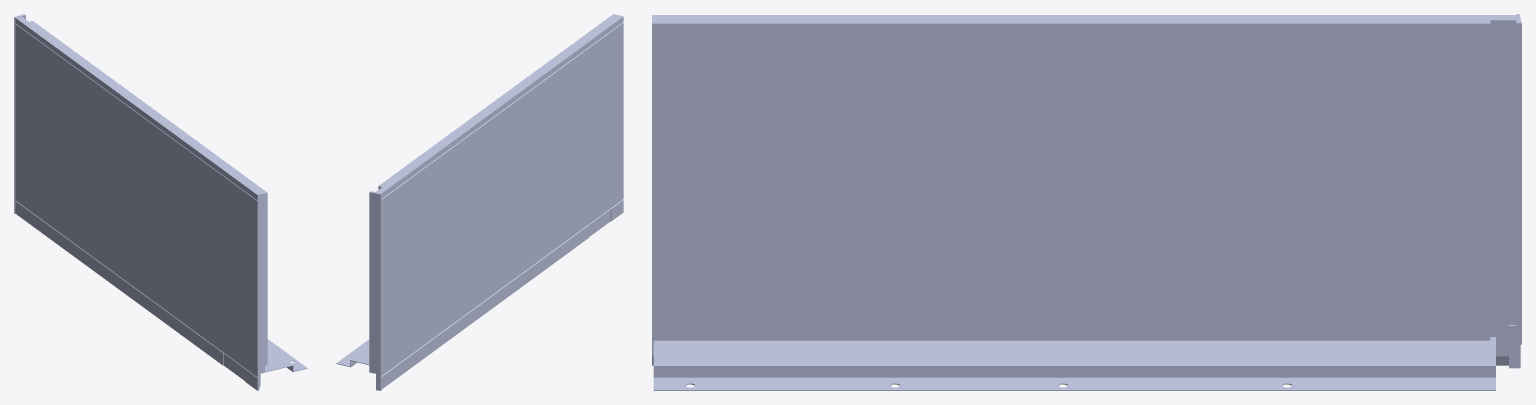
File: lg-kava-F550-p.glb
3 views of the same model, side by side, from view 1: azimuth 30°, elevation 25°; view 2: azimuth 150°, elevation 25°; view 3: azimuth 270°, elevation 25° (orthographic). The views are drawn at different scales.
Visible parts, largest first — view 1: 47466129; view 2: 47466129; view 3: 47466129.
Part boxes in pixels (x1,y1,x2,y2): 47466129: (14, 14, 307, 390); 47466129: (336, 14, 623, 390); 47466129: (652, 14, 1521, 390).
Bounding box in the file's own units: 0.0653 × 0.2417 × 0.5435.
